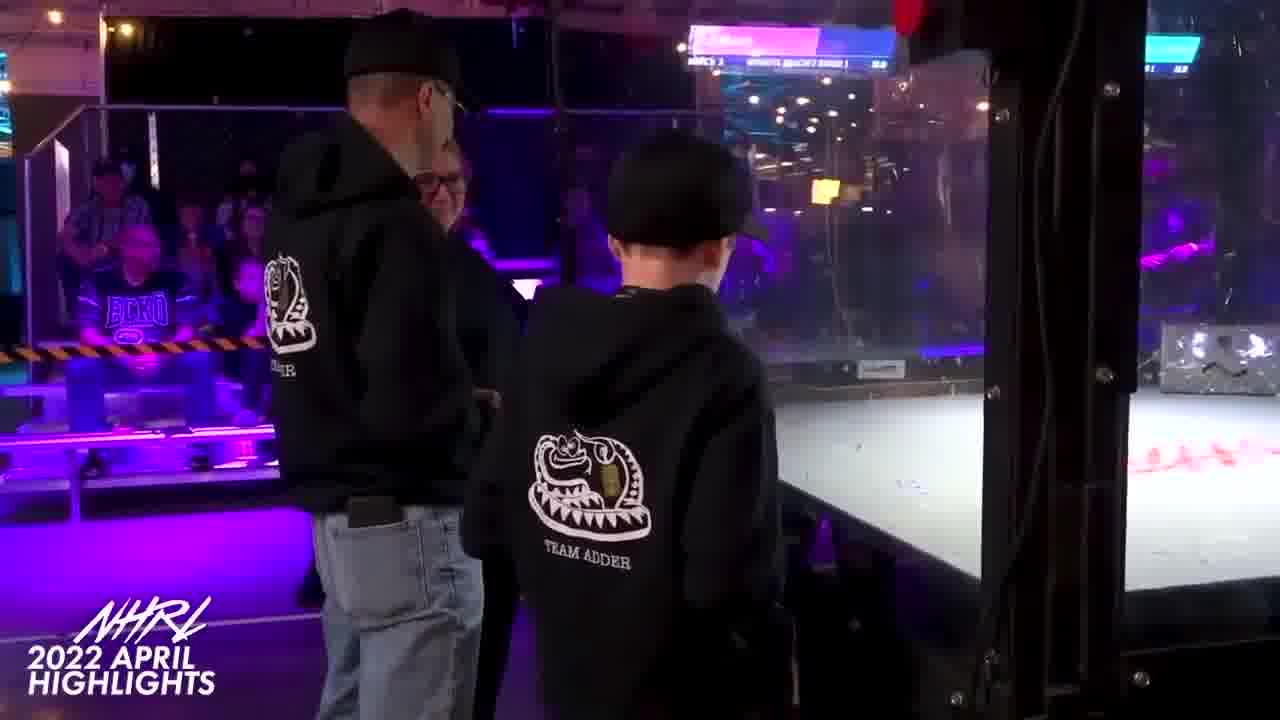housebot: (1160, 323, 1280, 406)
